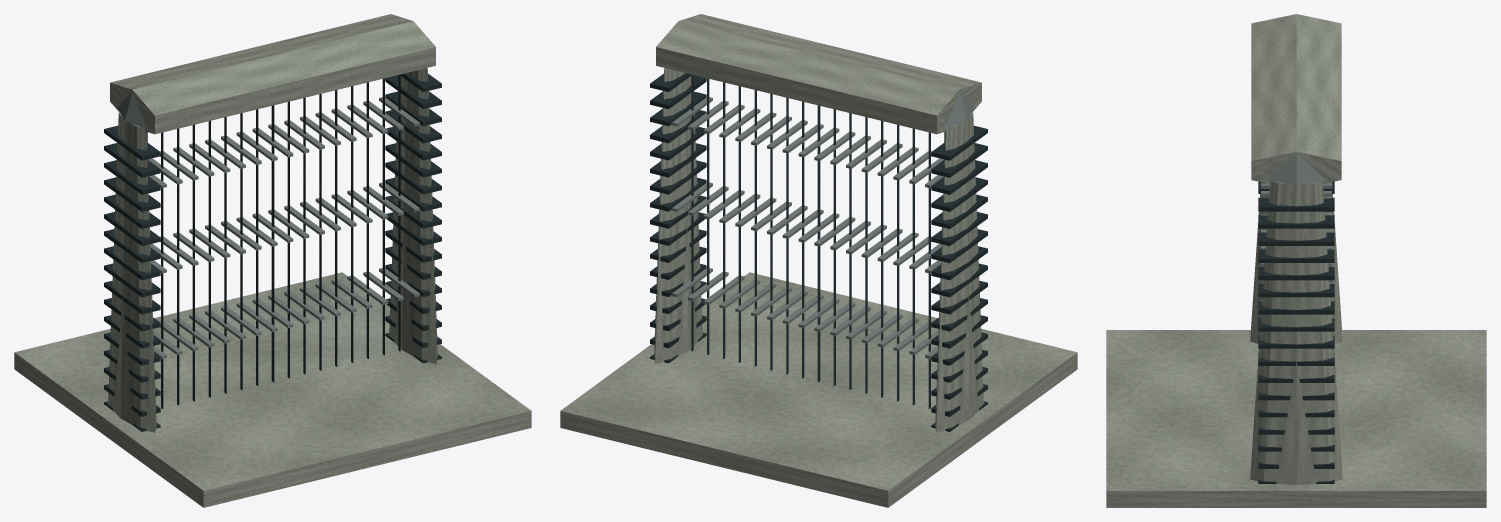
Rendered from atmosphere_harp_01.fbx.
3 views of the same model, side by side, from view 1: azimuth 30°, elevation 25°; view 2: azimuth 150°, elevation 25°; view 3: azimuth 270°, elevation 25° (orthographic).
Parts seen in each view (by area): view 1: atmosphere_harp_01_LOD0; view 2: atmosphere_harp_01_LOD0; view 3: atmosphere_harp_01_LOD0.
Boxes of the visible parts, box(x1,y1,x2,y2) form: atmosphere_harp_01_LOD0: box(14, 14, 531, 507); atmosphere_harp_01_LOD0: box(560, 14, 1077, 507); atmosphere_harp_01_LOD0: box(1106, 14, 1486, 507).
Size of what is drawn, in the model's own units: 1 by 1 by 1.
